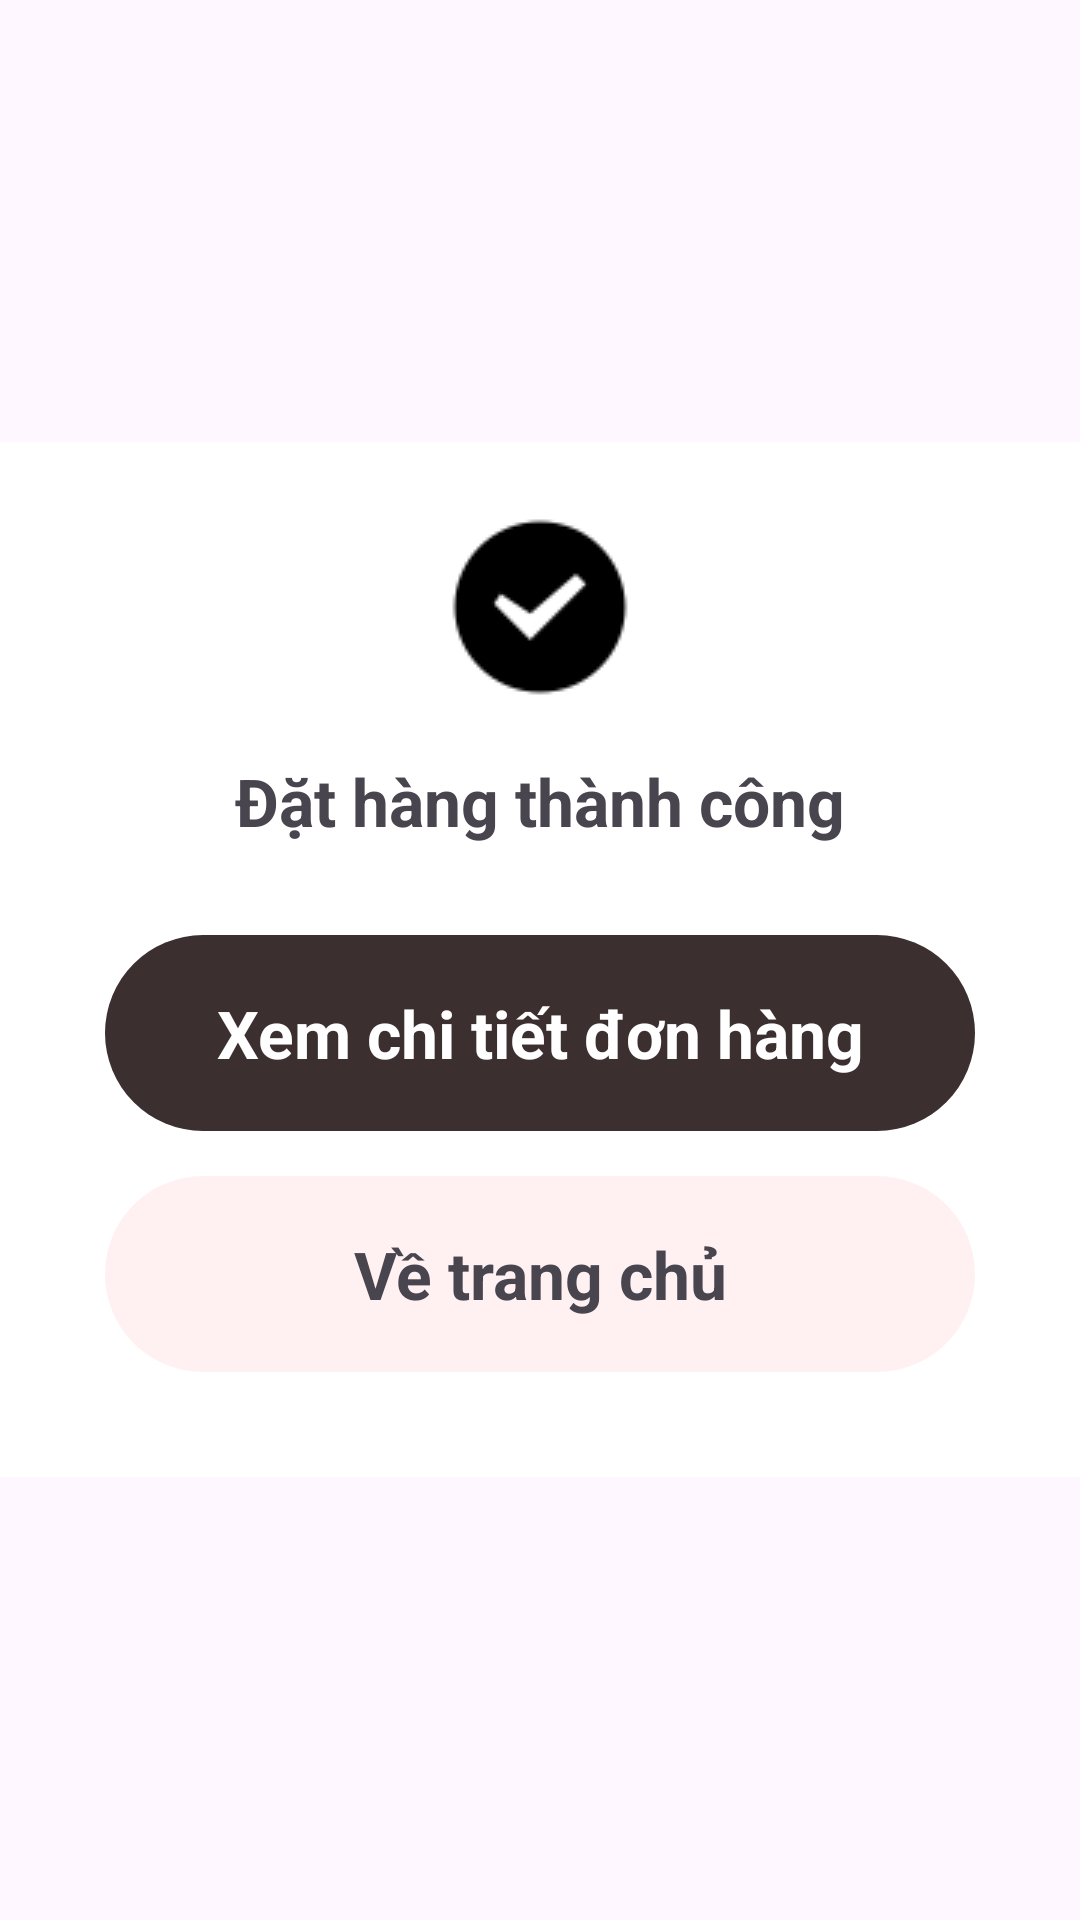

Screen size 1080px x 1920px. Icon name, then its center in pixels as point (x, y):
tick: point (540, 607)
